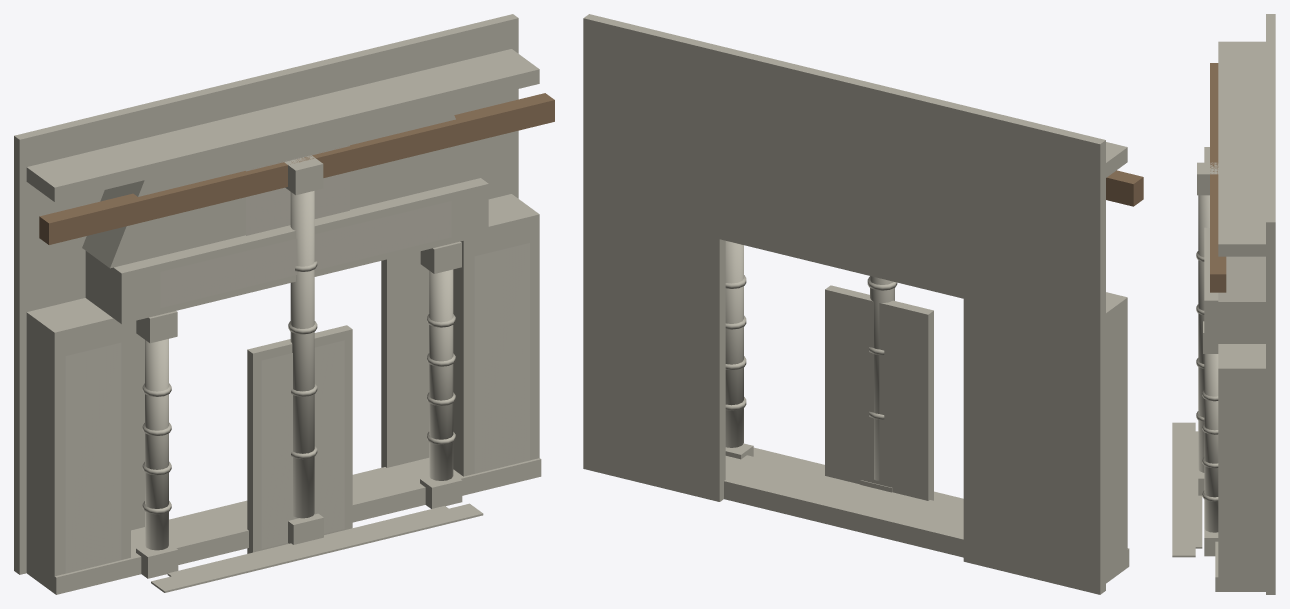
Rendered from khmer.glb.
3 views of the same model, side by side, from view 1: azimuth 30°, elevation 25°; view 2: azimuth 150°, elevation 25°; view 3: azimuth 270°, elevation 25° (orthographic). The views are drawn at different scales.
Visible parts, largest first — view 1: Sand_field, Sand_backL, Sand_backR, Sand_pediment, Sand_jambL, Wood_beam, Sand_lintel, Relief_jambL, Relief_jambR, Relief_field, Sand_lotus, Deity_lintel (+15 smaller); view 2: Sand_backL, Sand_backR, Sand_backHdr, Sand_relframe, Sand_lotus, Sand_jambL, Sand_shaft.001, Sand_shaft.002, Wood_beam, Sand_step; view 3: Sand_jambR, Sand_field, Sand_backR, Sand_step, Sand_lintel, Sand_shaft.001, Wood_beam, Sand_pediment, Sand_shaft.002, Sand_backHdr, Sand_step.001, Sand_backL (+5 smaller).
Part boxes in pixels (x1,y1,x2,y2): Sand_field: (26,49,539,201); Sand_backL: (14,103,151,574); Sand_backR: (381,14,518,467); Sand_pediment: (82,106,483,268); Sand_jambL: (26,298,130,592); Wood_beam: (39,93,554,244); Sand_lintel: (85,178,488,323); Relief_jambL: (65,342,121,573); Relief_jambR: (474,243,529,473); Relief_field: (261,340,344,548); Sand_lotus: (26,458,541,594); Deity_lintel: (160,201,451,307); Sand_backL: (963,107,1105,594); Sand_backR: (583,14,725,501); Sand_backHdr: (719,47,969,298); Sand_relframe: (825,285,933,500); Sand_lotus: (724,455,1129,574); Sand_jambL: (1106,292,1127,583); Sand_shaft.001: (725,241,743,447); Sand_shaft.002: (870,276,894,480); Wood_beam: (1106,170,1143,206); Sand_step: (753,447,963,507); Sand_jambR: (1218,344,1265,591); Sand_field: (1218,41,1265,256); Sand_backR: (1266,167,1275,594); Sand_step: (1172,422,1195,557); Sand_lintel: (1204,147,1265,343); Sand_shaft.001: (1204,354,1218,532); Wood_beam: (1210,63,1226,292); Sand_pediment: (1218,256,1265,301); Sand_shaft.002: (1198,195,1209,472); Sand_backHdr: (1266,69,1275,167); Sand_step.001: (1195,431,1202,548); Sand_backL: (1266,14,1275,68).
Size of the model in its own units: 7.3 by 6.12 by 1.51.
